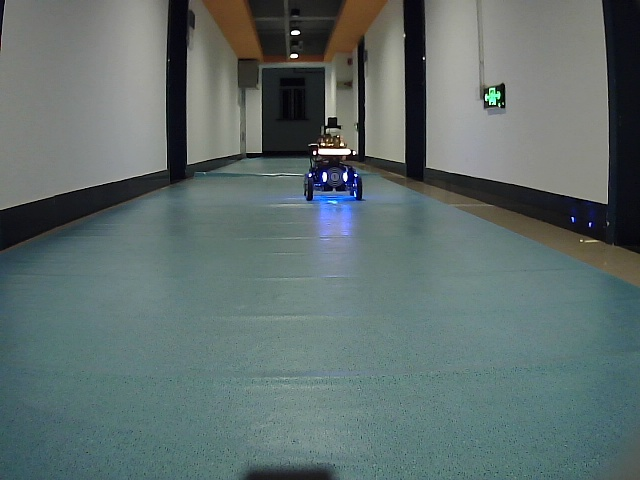lamp: (319, 170, 329, 183), (341, 169, 349, 184)
pair: (321, 172, 349, 181)
